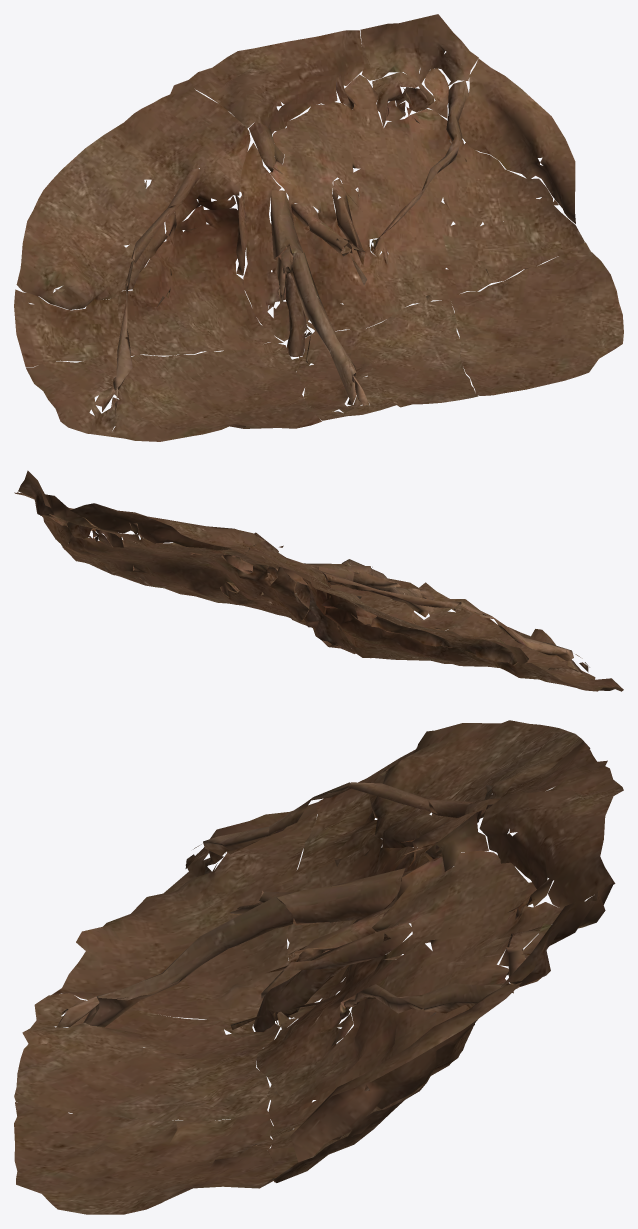
File: root_cluster_01.glb
The picture shows the model from 3 angles, top to bottom: view 1: azimuth 30°, elevation 25°; view 2: azimuth 150°, elevation 25°; view 3: azimuth 270°, elevation 25°; orthographic projection. The views are drawn at different scales.
Visible parts, largest first — view 1: root_cluster_01; view 2: root_cluster_01; view 3: root_cluster_01.
Part boxes in pixels (bbox=[...]): root_cluster_01: bbox=[14, 14, 623, 441]; root_cluster_01: bbox=[14, 470, 623, 691]; root_cluster_01: bbox=[14, 720, 623, 1214].
Bounding box in the file's own units: 4.12 × 1.5 × 2.68.
Materials: 1 (1 with a texture image).
